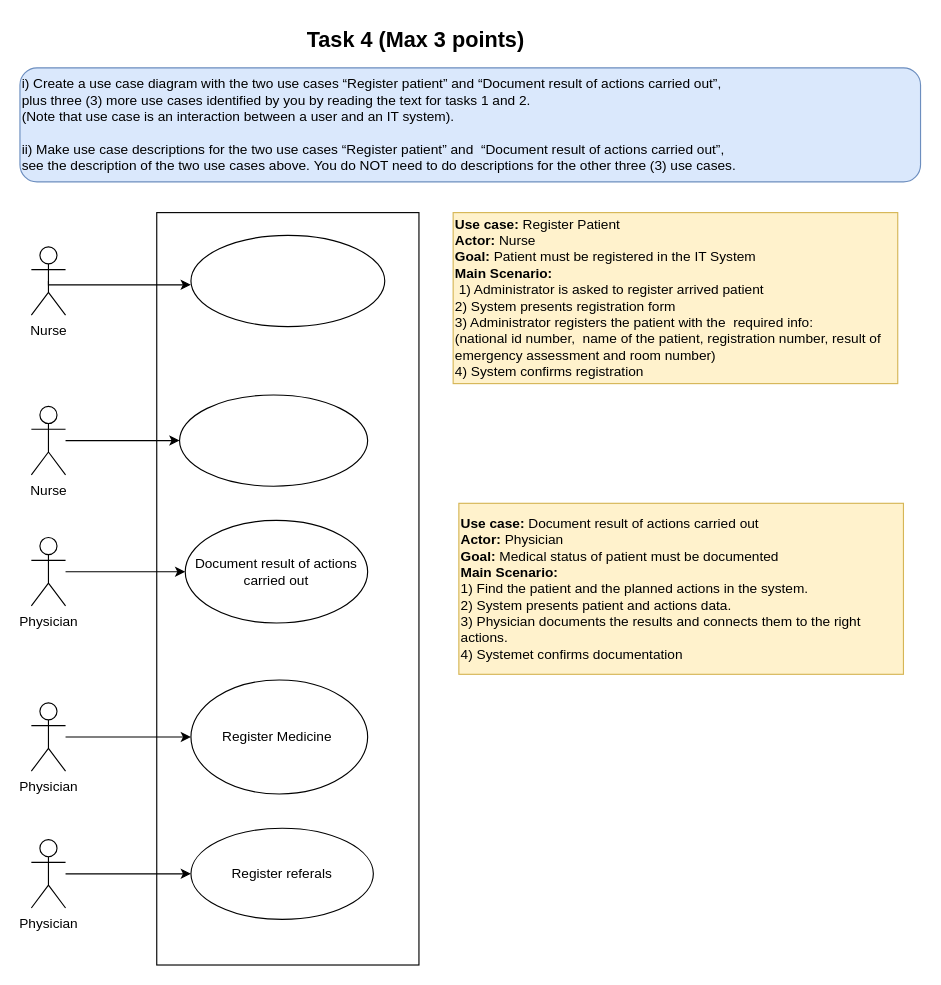
This 941x985 diagram has some shape labels left out. The box of each missing label's shape, as (x1, y1, x2, y2) in pixels:
Register actions: (178, 394, 368, 486)
Register Patient: (190, 234, 385, 327)
